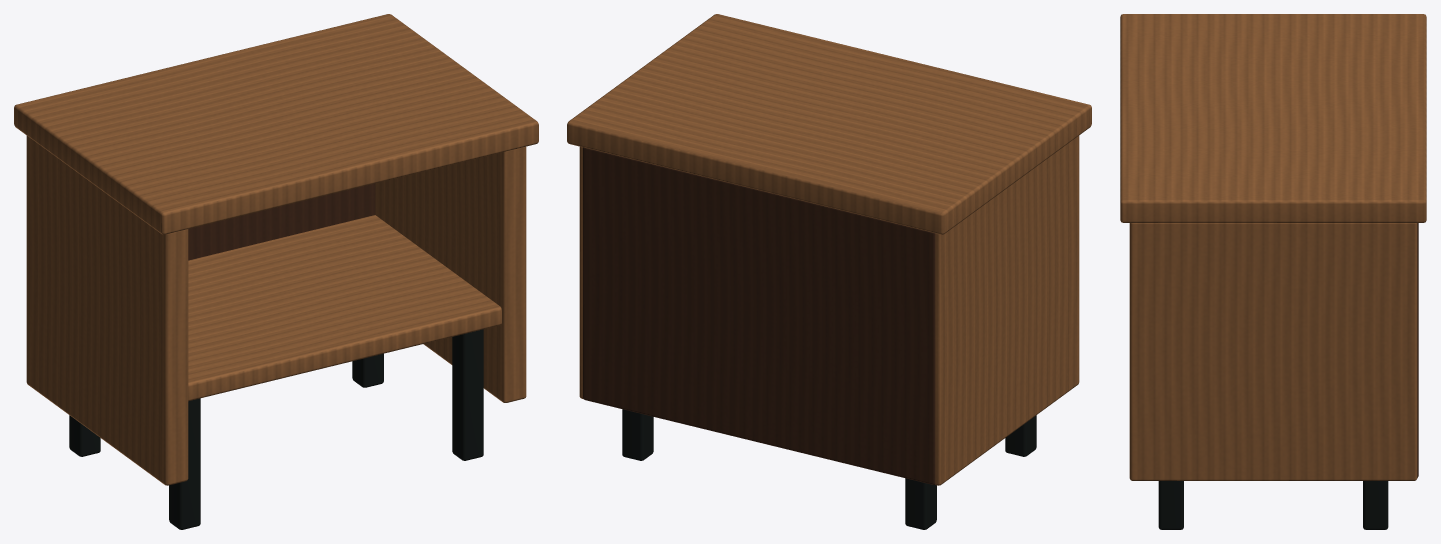
The model's file is drawer.glb.
3 renders of one model, left to right at view 1: azimuth 30°, elevation 25°; view 2: azimuth 150°, elevation 25°; view 3: azimuth 270°, elevation 25°, orthographic. The views are drawn at different scales.
Parts seen in each view (by area): view 1: V2_drawer_oak, V2_drawer_metal, V2_drawer_walnut; view 2: V2_drawer_oak, V2_drawer_walnut, V2_drawer_metal; view 3: V2_drawer_oak, V2_drawer_metal, V2_drawer_walnut.
Part boxes in pixels (box(x1,y1,x2,y2)): V2_drawer_oak: box(14, 14, 538, 485); V2_drawer_metal: box(69, 329, 483, 529); V2_drawer_walnut: box(188, 183, 375, 260); V2_drawer_oak: box(567, 14, 1091, 485); V2_drawer_walnut: box(583, 147, 935, 484); V2_drawer_metal: box(622, 409, 1036, 529); V2_drawer_oak: box(1120, 14, 1426, 480); V2_drawer_metal: box(1158, 481, 1388, 529); V2_drawer_walnut: box(1417, 223, 1418, 477).
Size of the model in its own units: 0.96 by 0.8275 by 0.66.
3 materials, 2 textured.
